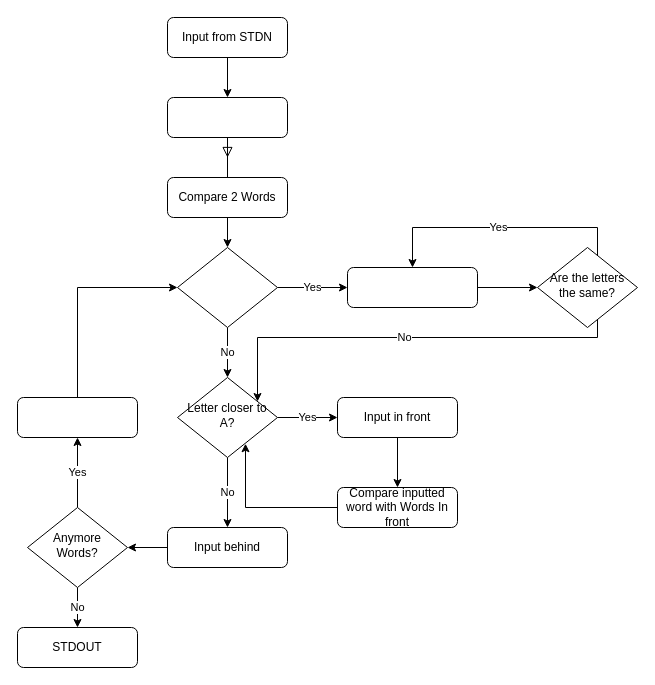
Some shapes in this 655 by 685 pixel diagram are drawn without their labels. Here are the shapes that lost their labels. From the top down, the box of each, then its label:
(166, 96, 288, 138): Split words using spaces
(176, 246, 278, 328): First 2 letters the same?
(346, 266, 478, 308): Go to next letter
(16, 396, 138, 438): Compare inputted word with another word
